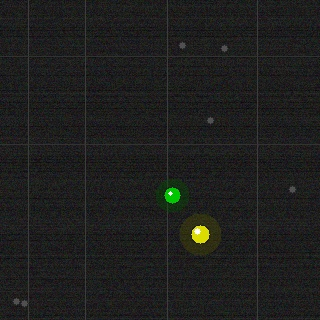green_normal: (162, 185, 182, 205)
yellow_warning: (189, 223, 211, 245)
